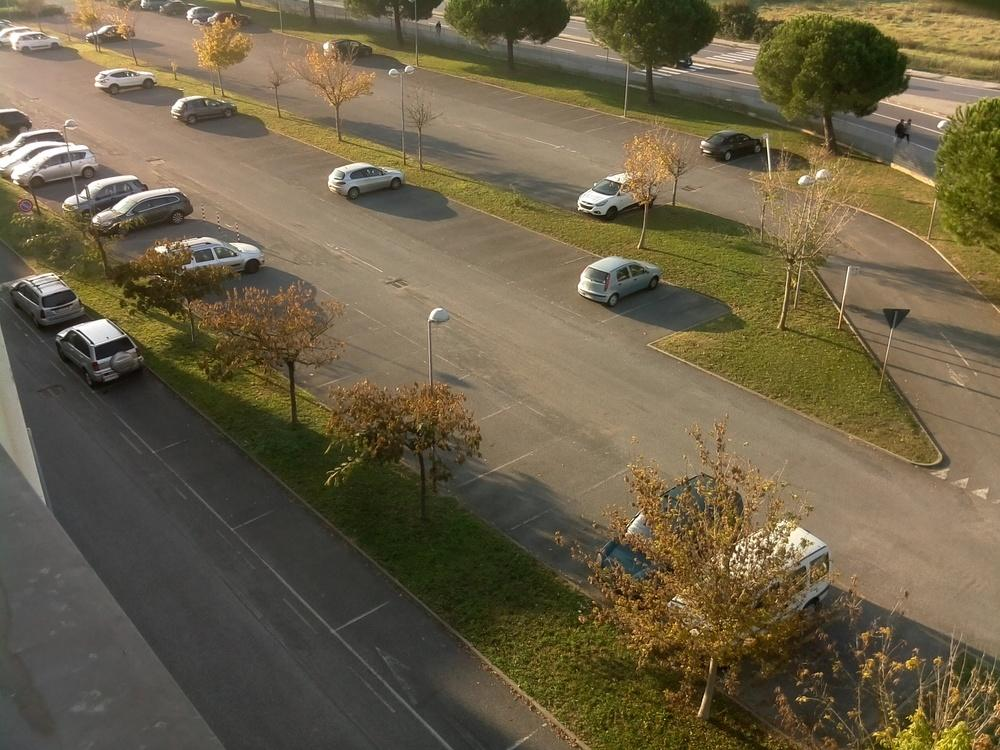empty: (576, 470, 743, 597), (642, 531, 833, 636), (59, 319, 147, 387), (149, 233, 263, 284), (576, 256, 664, 307), (12, 277, 94, 328), (95, 193, 187, 235), (11, 148, 101, 188), (320, 162, 414, 200), (566, 180, 647, 220), (66, 174, 144, 214), (169, 89, 236, 128), (697, 131, 768, 164), (317, 34, 382, 64), (93, 68, 161, 96), (4, 28, 62, 53)
occupied: (788, 637, 908, 714), (411, 653, 503, 715), (482, 457, 567, 514), (560, 486, 636, 534), (458, 419, 542, 462), (171, 451, 254, 494), (114, 389, 180, 433), (277, 535, 344, 578), (350, 369, 420, 406), (437, 377, 496, 418), (640, 291, 705, 323), (508, 241, 561, 271), (333, 341, 391, 368), (538, 267, 584, 298), (311, 312, 360, 341), (144, 222, 203, 244), (462, 232, 508, 259), (278, 152, 324, 177), (432, 210, 479, 234), (392, 198, 441, 221), (540, 101, 589, 122), (468, 81, 510, 101), (244, 132, 282, 154), (573, 113, 623, 129), (508, 92, 547, 111), (432, 74, 469, 94), (32, 47, 77, 63), (60, 59, 100, 76), (134, 92, 172, 106)
